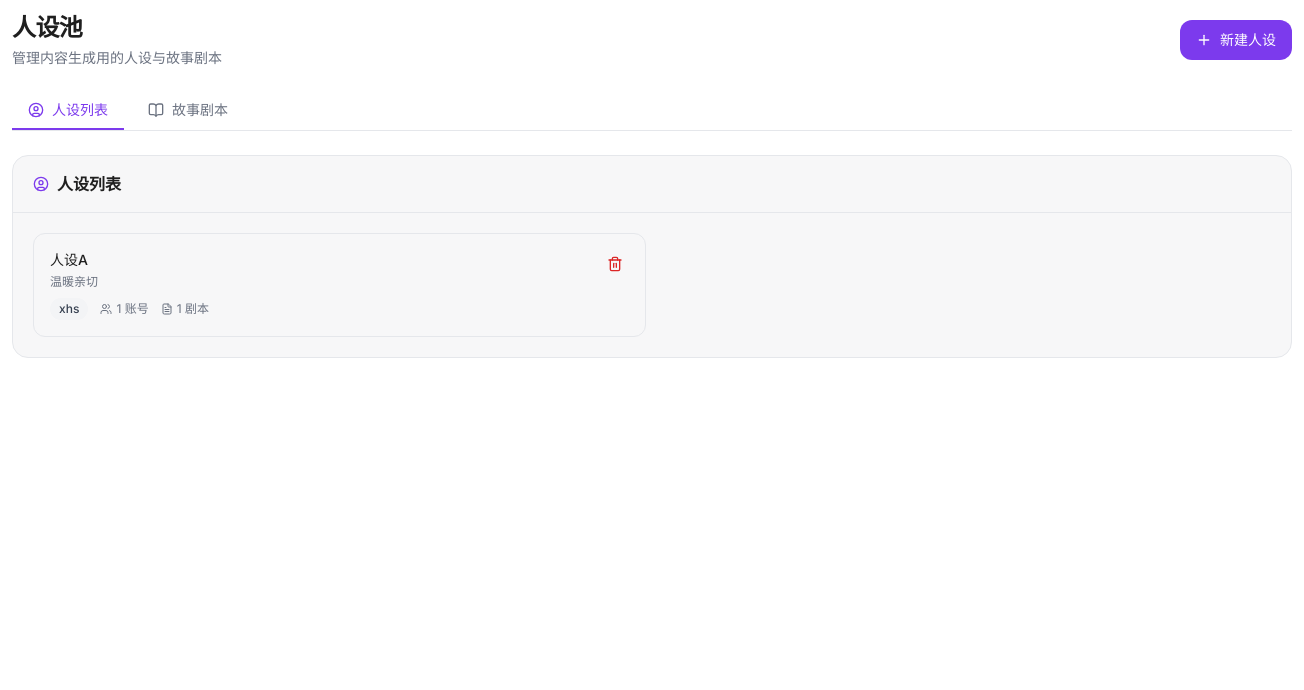
PersonasPage › renders node reorder buttons when editing a story
The image size is (1304, 690).
Click the button "故事剧本" at (188, 111), box x1=132 y1=92 x2=244 y2=130
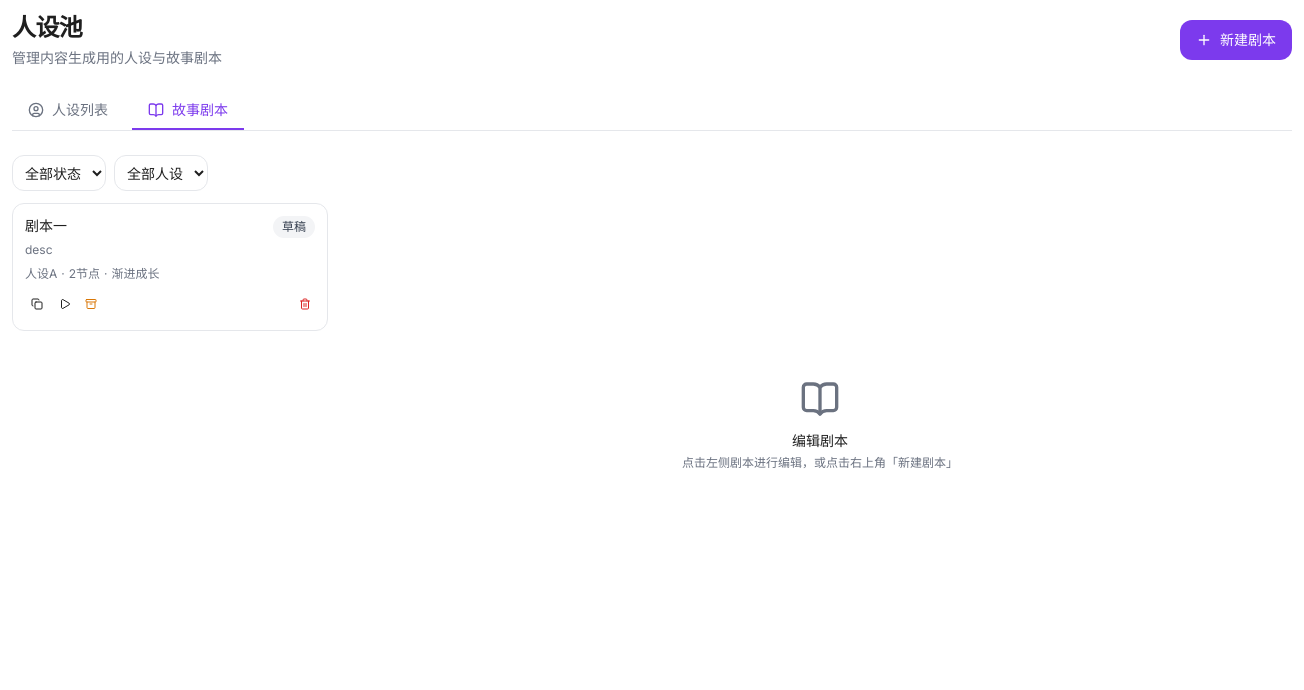
Click the heading "剧本一" at (46, 226), box x1=25 y1=217 x2=67 y2=234
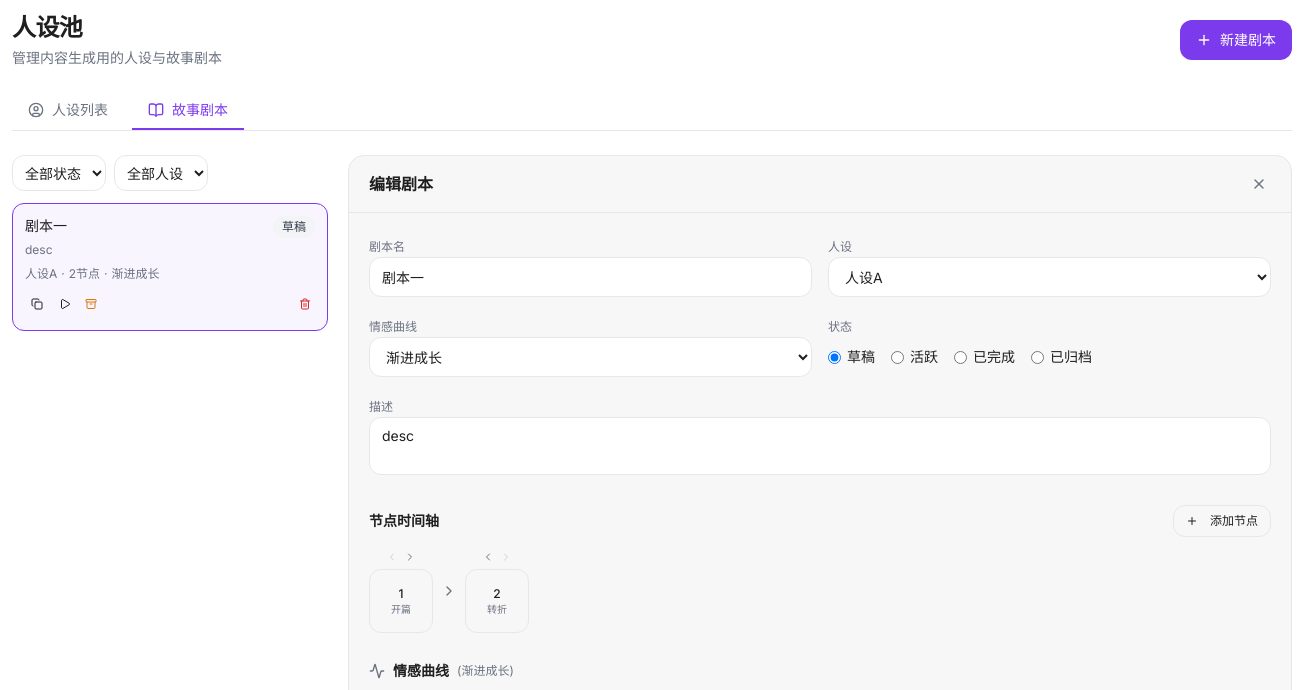
Expected: the heading "节点时间轴" is shown, x1=369 y1=511 x2=439 y2=531
